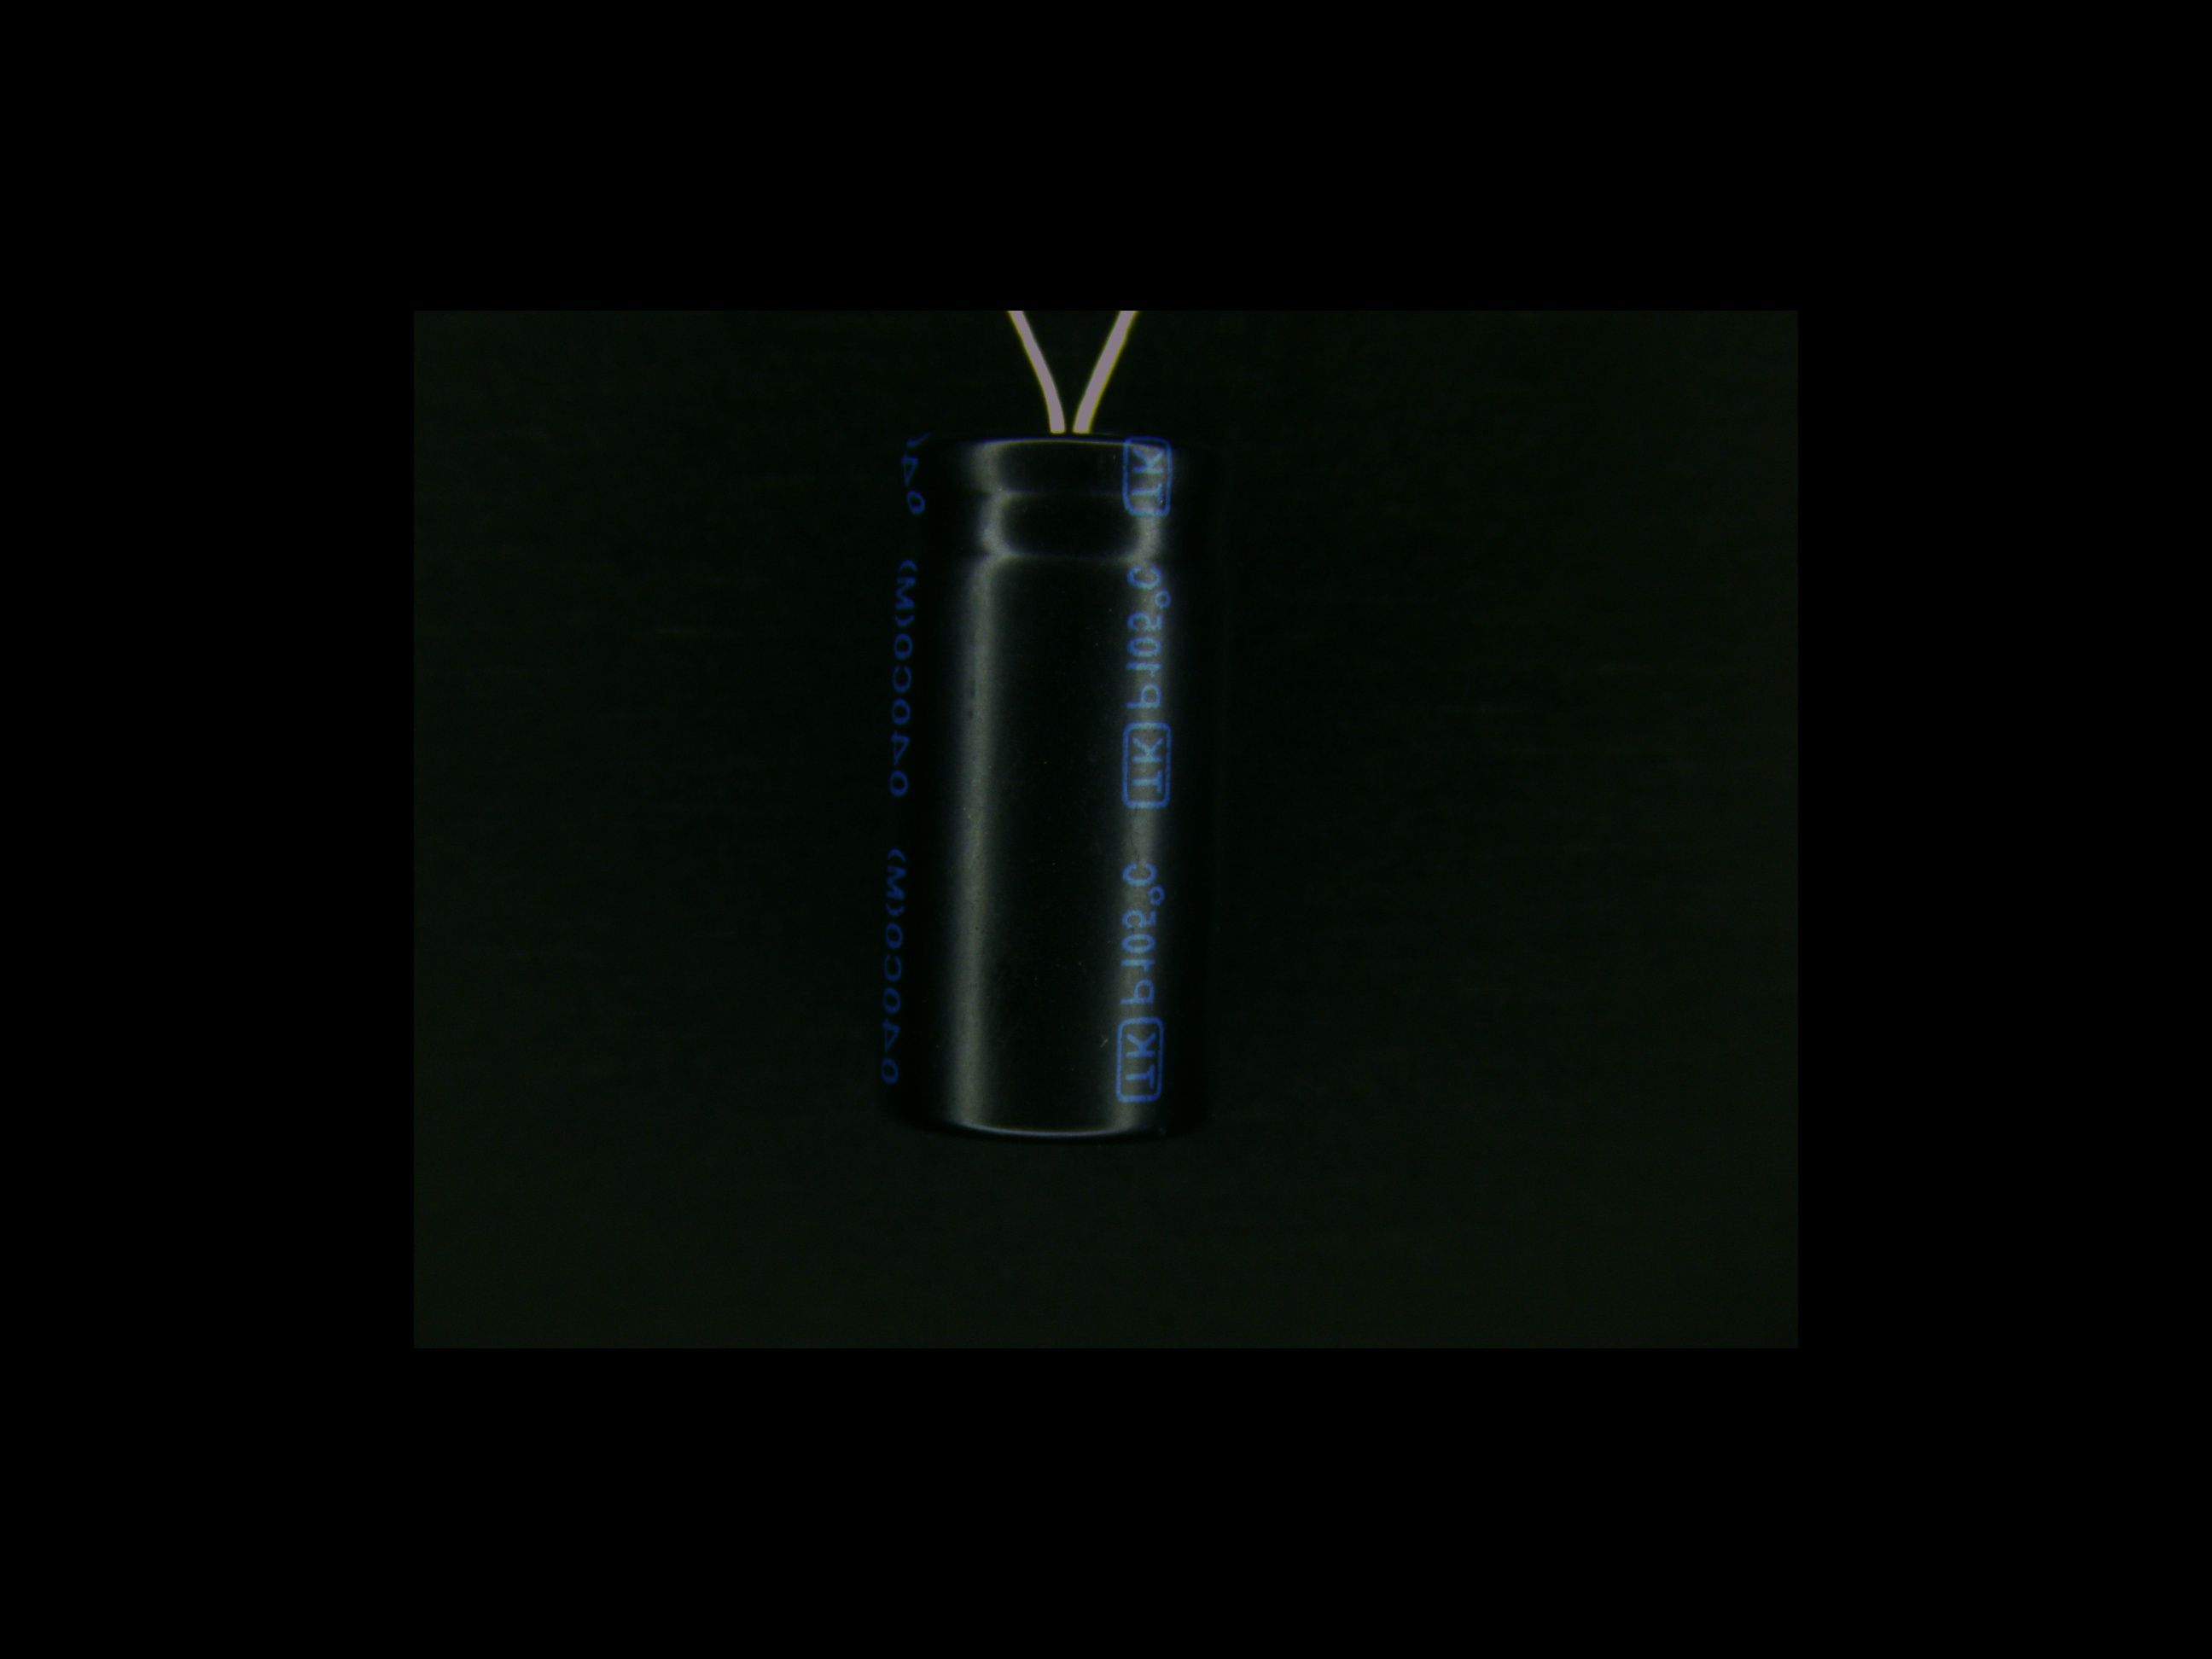c2: (862, 368, 1235, 1145)
